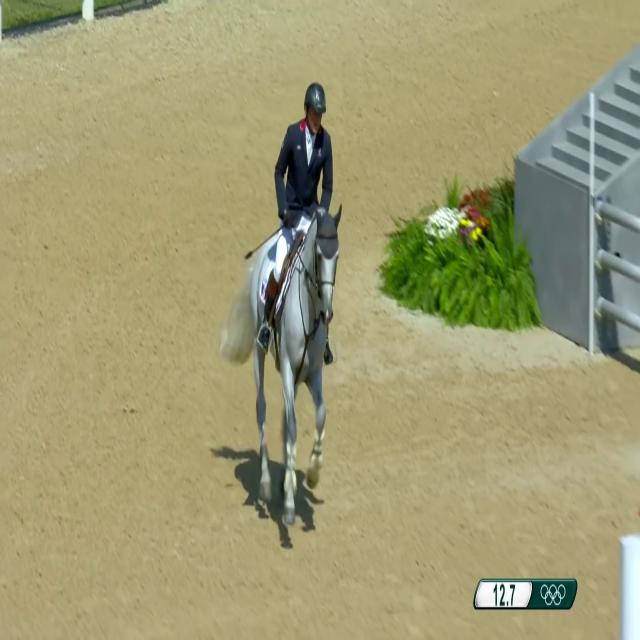Horse Rider: (273, 80, 341, 308)
Horse Running: (223, 208, 342, 502)
